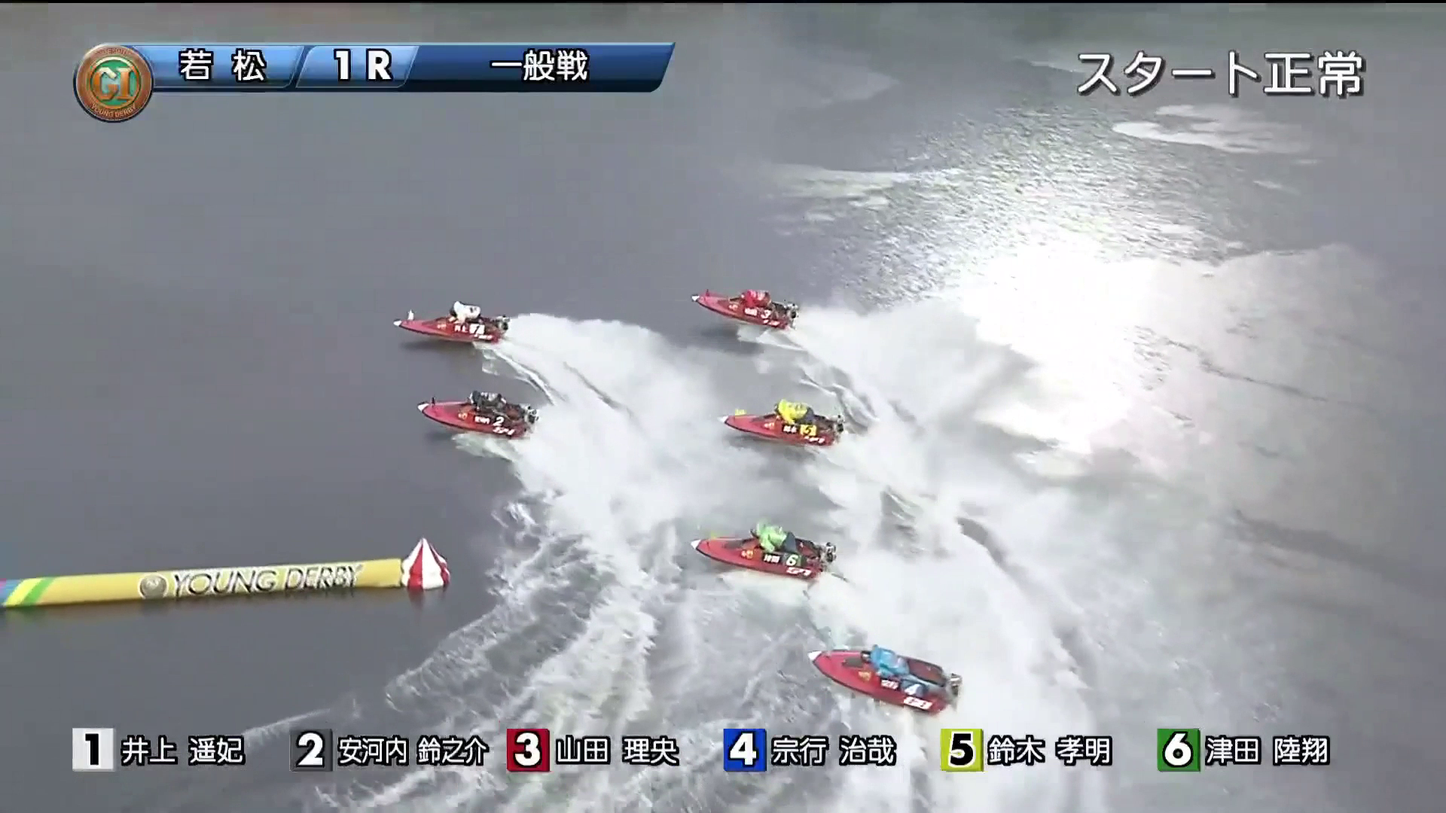１号艇: (438, 286, 508, 339)
２号艇: (425, 370, 554, 431)
３号艇: (719, 273, 817, 322)
４号艇: (724, 512, 858, 578)
５号艇: (836, 653, 960, 708)
６号艇: (741, 357, 841, 437)
